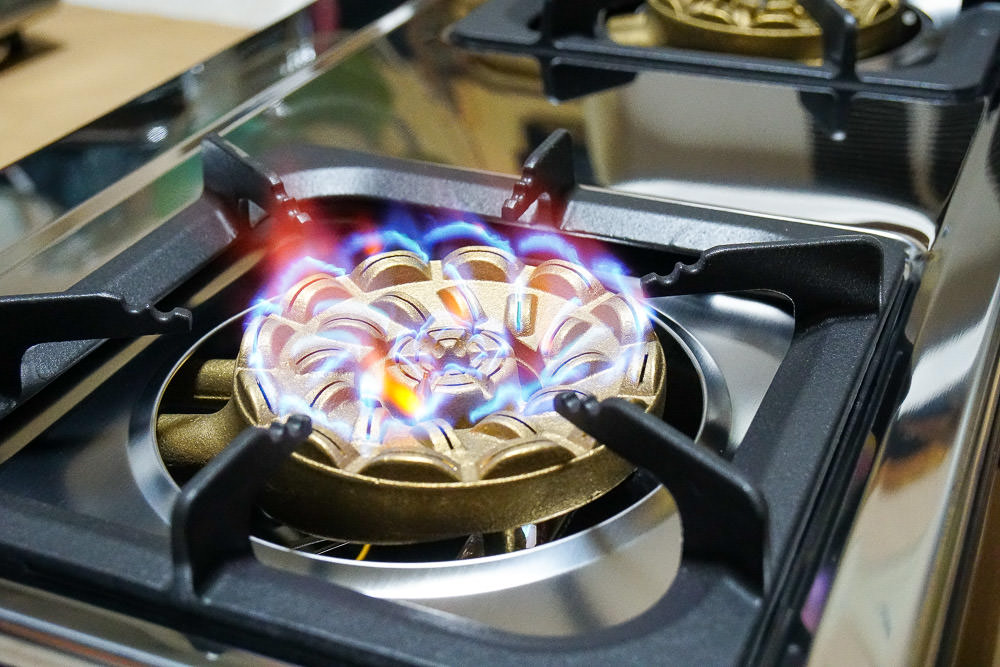gasoven: (3, 133, 918, 655)
